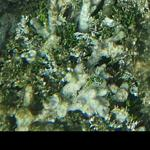dead: (3, 4, 148, 130)
